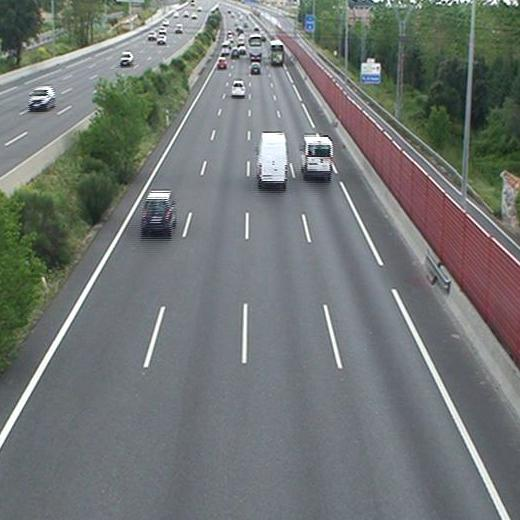bus: (270, 41, 285, 63), (248, 36, 262, 58)
car: (143, 192, 174, 230), (232, 82, 245, 96), (251, 62, 261, 73), (217, 58, 227, 69), (231, 48, 238, 56)
van: (258, 132, 287, 185), (301, 137, 332, 177)
